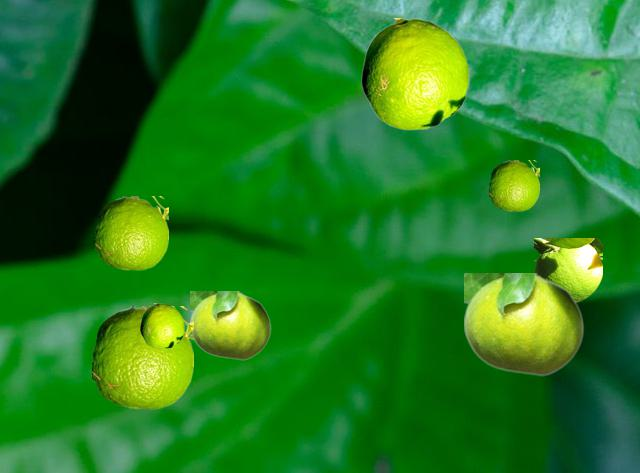dalandan: (464, 273, 583, 375), (361, 18, 468, 129), (92, 306, 192, 408), (190, 291, 270, 359), (95, 196, 167, 269), (534, 238, 601, 302), (489, 160, 538, 210), (140, 303, 183, 348)
